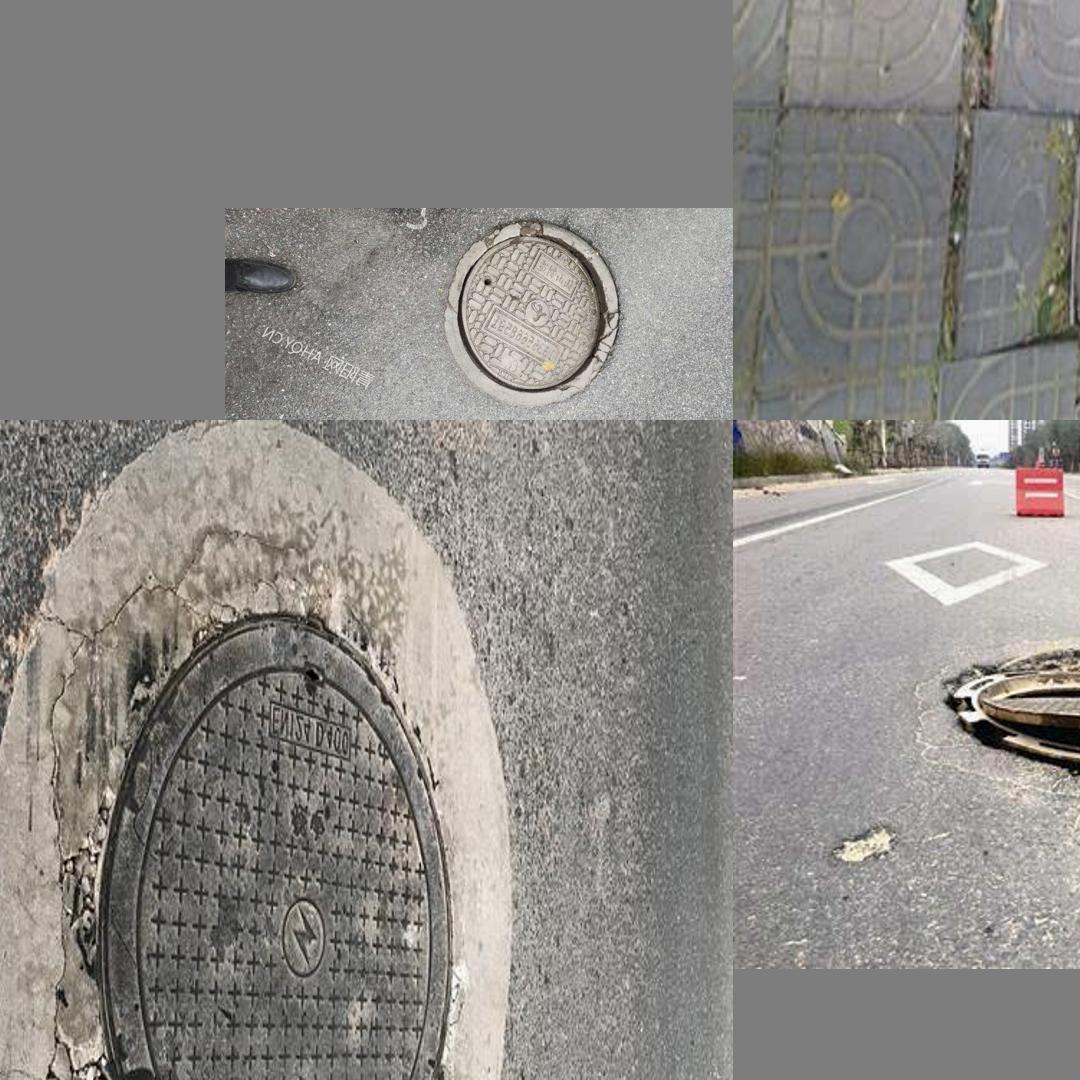circle: (0, 448, 508, 1080), (429, 216, 650, 411), (867, 631, 1080, 811), (1071, 0, 1080, 333)
